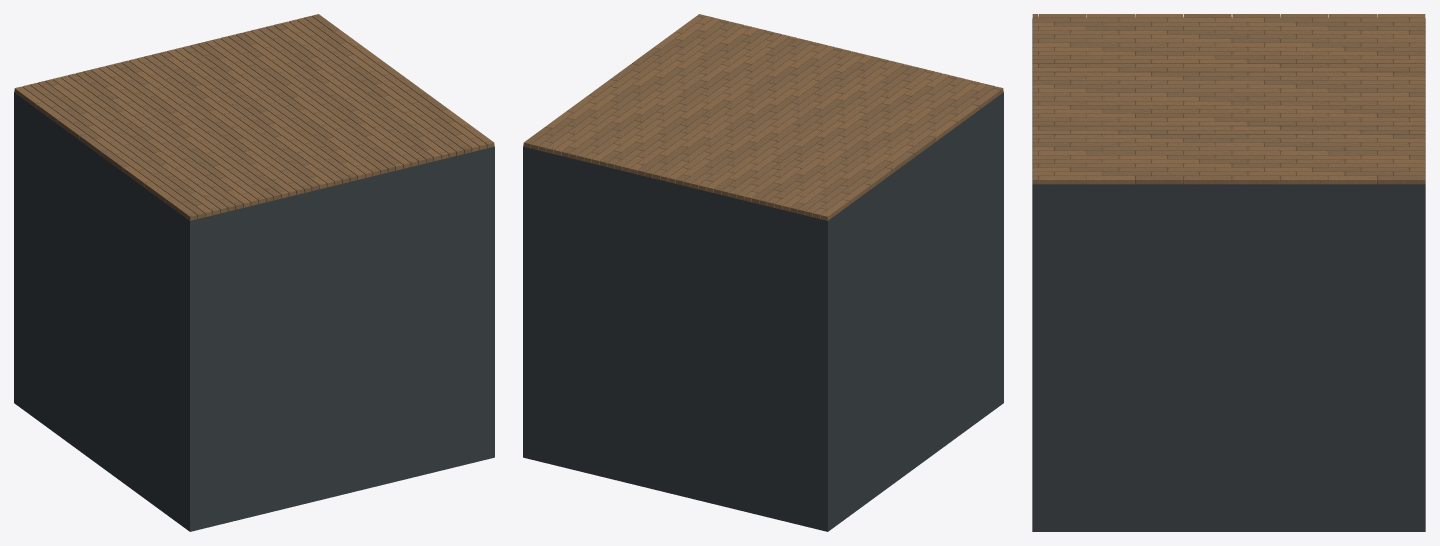
File: deck.gltf
3 renders of one model, left to right at view 1: azimuth 30°, elevation 25°; view 2: azimuth 150°, elevation 25°; view 3: azimuth 270°, elevation 25°, orthographic. The views are drawn at different scales.
Parts seen in each view (by area): view 1: deck; view 2: deck; view 3: deck.
Boxes of the visible parts, x1=… form: deck: x1=14, y1=14, x2=494, y2=531; deck: x1=523, y1=14, x2=1003, y2=531; deck: x1=1032, y1=14, x2=1425, y2=531.
Size of the model in its own units: 1 by 0.9887 by 1.
6 materials, 5 textured.
